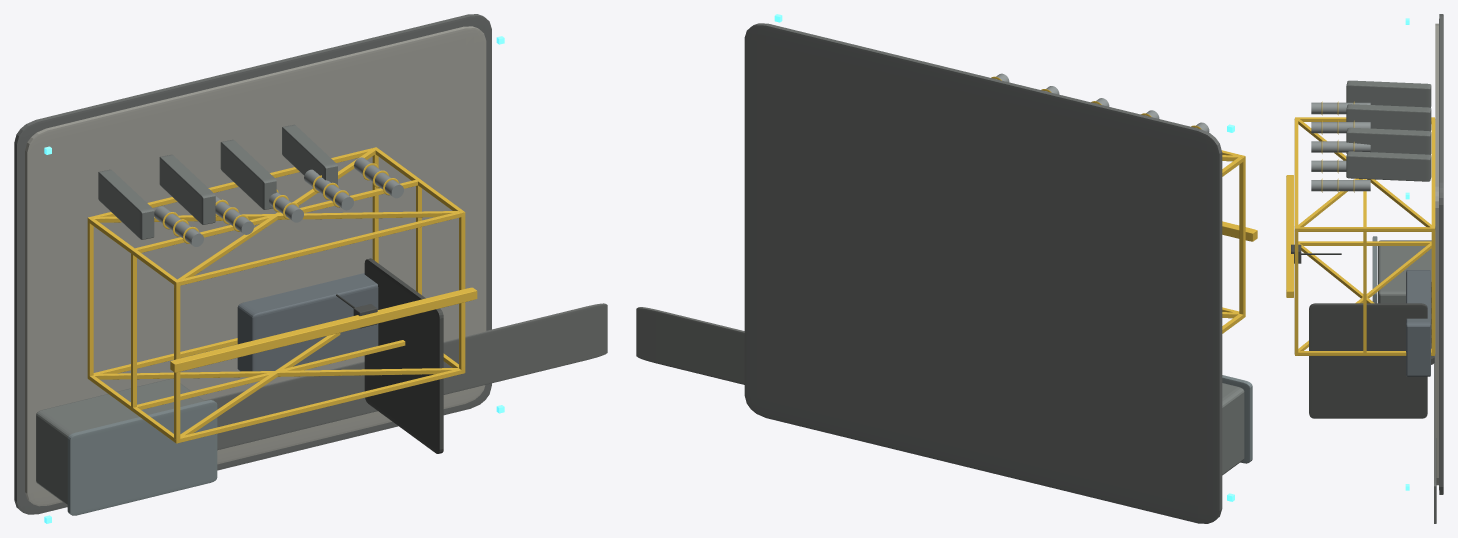
File: b-15-vehicle-factory-lod1.glb
3 renders of one model, left to right at view 1: azimuth 30°, elevation 25°; view 2: azimuth 150°, elevation 25°; view 3: azimuth 270°, elevation 25°, orthographic. The views are drawn at different scales.
Parts seen in each view (by area): view 1: foundation_inner_pad, factory_exit_road, foundation, parts_store_roof, factory_door, visible_vehicle_chassis, parts_store_main_hall, bridge_crane_bridge, factory_buttress_1, factory_buttress_0, bridge_crane_brace_a_-3, factory_buttress_2 (+20 smaller); view 2: foundation, factory_exit_road, parts_store_main_hall, bridge_crane_beam_y_2_w, parts_store_roof; view 3: factory_door, foundation, visible_vehicle_chassis, factory_buttress_3, parts_store_main_hall, factory_buttress_0, factory_buttress_1, factory_buttress_2, foundation_inner_pad, bridge_crane_bridge, factory_exhaust_4_stack, bridge_crane_column_e_n (+18 smaller).
Boxes of the visible parts, bbox=[...] form: foundation_inner_pad: bbox=[25, 26, 486, 506]; factory_exit_road: bbox=[204, 303, 607, 450]; foundation: bbox=[14, 14, 491, 514]; parts_store_roof: bbox=[67, 400, 217, 515]; factory_door: bbox=[364, 258, 443, 453]; visible_vehicle_chassis: bbox=[237, 273, 378, 371]; parts_store_main_hall: bbox=[36, 378, 204, 505]; bridge_crane_bridge: bbox=[170, 287, 477, 372]; factory_buttress_1: bbox=[159, 154, 215, 224]; factory_buttress_0: bbox=[98, 169, 154, 239]; bridge_crane_brace_a_-3: bbox=[94, 368, 458, 379]; factory_buttress_2: bbox=[220, 139, 276, 209]; foundation: bbox=[744, 23, 1222, 523]; factory_exit_road: bbox=[636, 307, 744, 384]; parts_store_main_hall: bbox=[1222, 383, 1244, 475]; bridge_crane_beam_y_2_w: bbox=[1239, 155, 1245, 314]; parts_store_roof: bbox=[1222, 375, 1252, 463]; factory_door: bbox=[1309, 303, 1427, 418]; foundation: bbox=[1439, 14, 1443, 494]; visible_vehicle_chassis: bbox=[1406, 270, 1430, 376]; factory_buttress_3: bbox=[1346, 151, 1431, 181]; parts_store_main_hall: bbox=[1378, 240, 1431, 303]; factory_buttress_0: bbox=[1346, 80, 1431, 107]; factory_buttress_1: bbox=[1346, 104, 1431, 131]; factory_buttress_2: bbox=[1346, 127, 1431, 154]; foundation_inner_pad: bbox=[1435, 23, 1438, 485]; bridge_crane_bridge: bbox=[1286, 175, 1293, 297]; factory_exhaust_4_stack: bbox=[1311, 180, 1370, 191]; bridge_crane_column_e_n: bbox=[1298, 227, 1431, 231].
Size of what is drawn, in the model's own units: 23.5 by 15 by 6.9.
